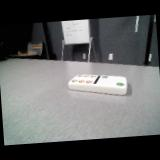domino: (68, 74, 127, 95)
